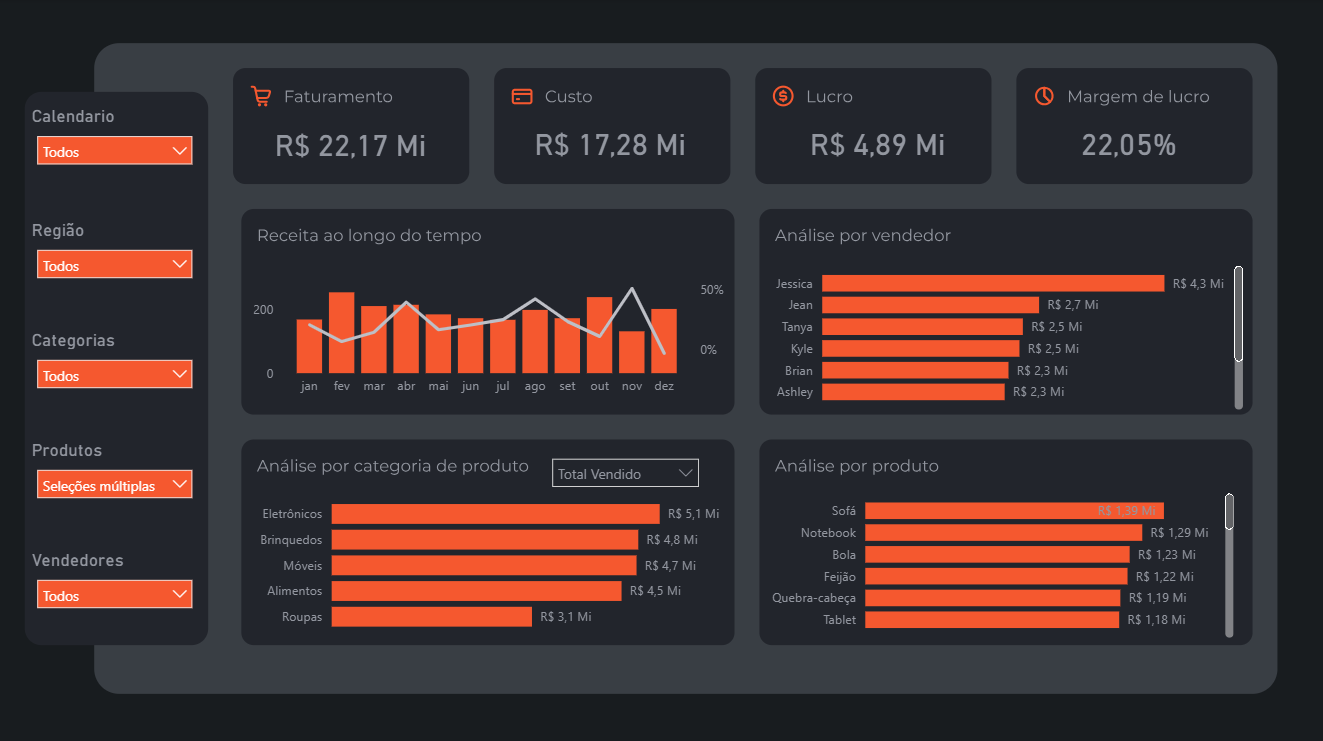

This screenshot's page, from the dashboard's own definition file:
{"tool":"powerbi","page":{"name":"Dashboard","canvas":[1280,720],"ordinal":0},"visuals":[{"type":"lineClusteredColumnComboChart","fields":{"Category":["dimCalendario.Nome do Mês"],"Y":["Sum(fatVendas.Quantidade Vendida)"],"Y2":["Medidas (2).Margem de Lucro"]},"box":[240.4,256,465.1,136.5],"z":0},{"type":"clusteredBarChart","fields":{"Category":["dimVendedores.Vendedor"],"Y":["Medidas (2).Total Vendido"]},"box":[741,246,465.1,156.4],"z":1000},{"type":"clusteredBarChart","fields":{"Category":["dimProdutos.Categoria"],"Y":["Medidas (2).Total Vendido"]},"box":[241.3,465.7,464.5,156.8],"z":2000},{"type":"clusteredBarChart","fields":{"Category":["dimProdutos.Produto"],"Y":["Medidas (2).Total Vendido"]},"box":[732.3,465.7,464.5,156.8],"z":3000},{"type":"card","fields":{"Values":["Medidas (2).Custo Total"]},"box":[473.6,103.8,231.8,72.5],"z":4000},{"type":"card","fields":{"Values":["Medidas (2).Total Vendido"]},"box":[226.1,106.7,227.6,69.7],"z":5000},{"type":"card","fields":{"Values":["Medidas (2).Lucro"]},"box":[732.4,103.8,231.8,72.5],"z":6000},{"type":"card","fields":{"Values":["Medidas (2).Margem de Lucro"]},"box":[974.2,103.8,231.8,72.5],"z":7000},{"type":"slicer","title":"Calendario","fields":{"Values":["dimCalendario.Ano","dimCalendario.Nome do Mês"]},"box":[26,103.9,170.2,79.4],"z":7001},{"type":"slicer","title":"Categorias","fields":{"Values":["dimProdutos.Categoria"]},"box":[26,319.6,170.2,79.4],"z":7002},{"type":"slicer","title":"Região","fields":{"Values":["dimRegiao.Região"]},"box":[26,213.2,170.2,79.4],"z":7003},{"type":"slicer","title":"Vendedores","fields":{"Values":["dimVendedores.Vendedor"]},"box":[26,532.4,170.2,79.4],"z":7004},{"type":"slicer","title":"Produtos","fields":{"Values":["dimProdutos.Produto"]},"box":[26,426,170.2,79.4],"z":7005},{"type":"slicer","fields":{"Values":["Margem/Vendas.Margem/Vendas"]},"box":[523.6,434.3,161.7,49.5],"z":7006}]}

Visuals, with their boxes in screenshot pixels (x1, y1, x2, y2), scaled from the page's 1280x720 canvas onto the 1323x741 screenshot:
lineClusteredColumnComboChart - dimCalendario.Nome do Mês x Sum(fatVendas.Quantidade Vendida): pyautogui.locateOnScreen(248, 263, 729, 404)
clusteredBarChart - dimVendedores.Vendedor x Medidas (2).Total Vendido: pyautogui.locateOnScreen(766, 253, 1247, 414)
clusteredBarChart - dimProdutos.Categoria x Medidas (2).Total Vendido: pyautogui.locateOnScreen(249, 479, 730, 641)
clusteredBarChart - dimProdutos.Produto x Medidas (2).Total Vendido: pyautogui.locateOnScreen(757, 479, 1237, 641)
card - Medidas (2).Custo Total: pyautogui.locateOnScreen(490, 107, 729, 181)
card - Medidas (2).Total Vendido: pyautogui.locateOnScreen(234, 110, 469, 182)
card - Medidas (2).Lucro: pyautogui.locateOnScreen(757, 107, 997, 181)
card - Medidas (2).Margem de Lucro: pyautogui.locateOnScreen(1007, 107, 1247, 181)
"Calendario" slicer: pyautogui.locateOnScreen(27, 107, 203, 189)
"Categorias" slicer: pyautogui.locateOnScreen(27, 329, 203, 411)
"Região" slicer: pyautogui.locateOnScreen(27, 219, 203, 301)
"Vendedores" slicer: pyautogui.locateOnScreen(27, 548, 203, 630)
"Produtos" slicer: pyautogui.locateOnScreen(27, 438, 203, 520)
slicer - Margem/Vendas.Margem/Vendas: pyautogui.locateOnScreen(541, 447, 708, 498)
